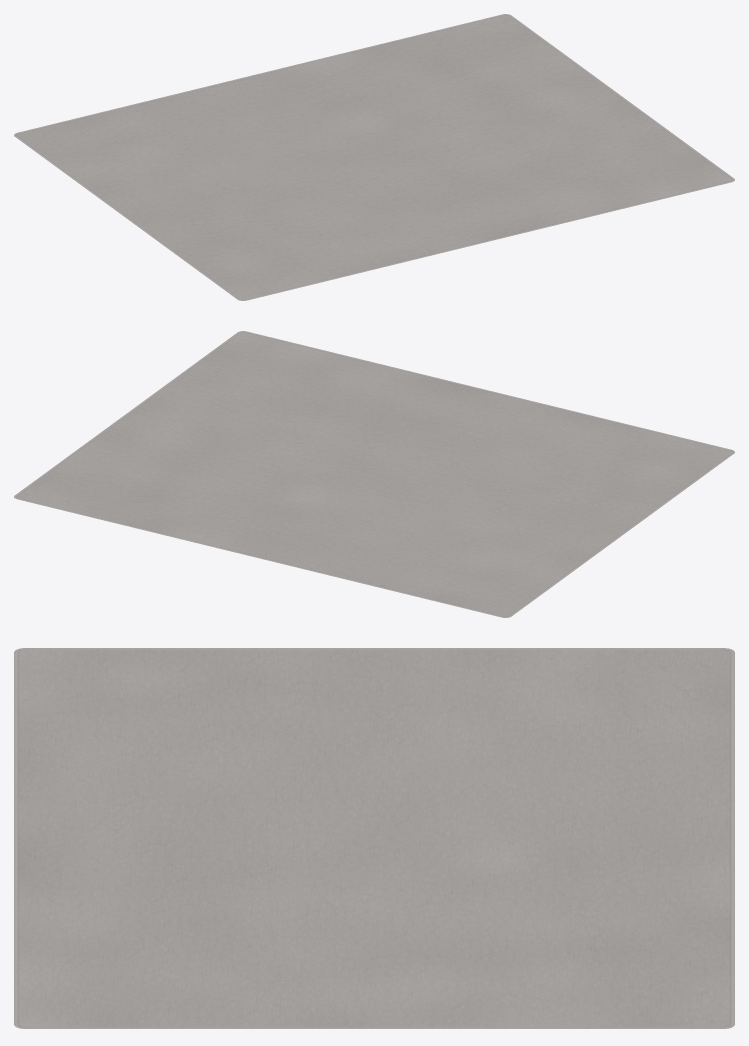
Rendered from gray_L_r90.glb.
The picture shows the model from 3 angles, top to bottom: view 1: azimuth 30°, elevation 25°; view 2: azimuth 150°, elevation 25°; view 3: azimuth 270°, elevation 25°; orthographic projection. The views are drawn at different scales.
Parts seen in each view (by area): view 1: reliv_gray_L_r90; view 2: reliv_gray_L_r90; view 3: reliv_gray_L_r90.
Boxes of the visible parts, x1,y1,x2,y2 form: reliv_gray_L_r90: (14, 14, 734, 300); reliv_gray_L_r90: (14, 331, 734, 617); reliv_gray_L_r90: (14, 648, 734, 1028).
Bounding box in the file's own units: 2.5 × 0.009 × 2.
2 materials, 1 textured.
